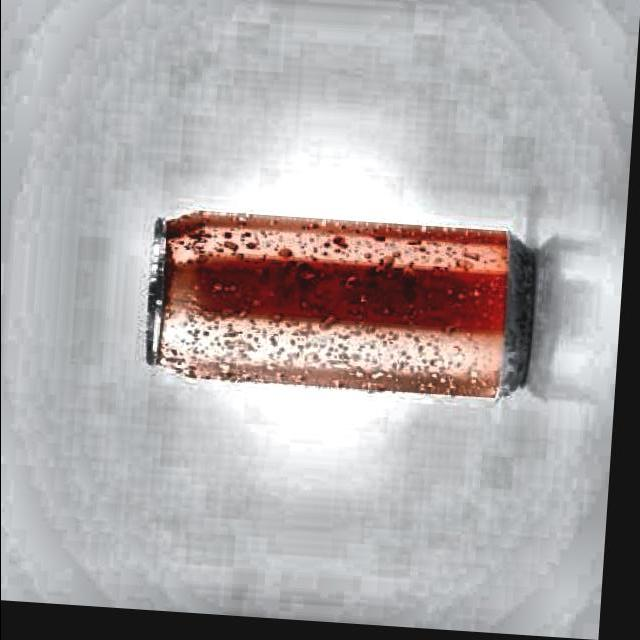Aluminum Can: (138, 202, 549, 411)
